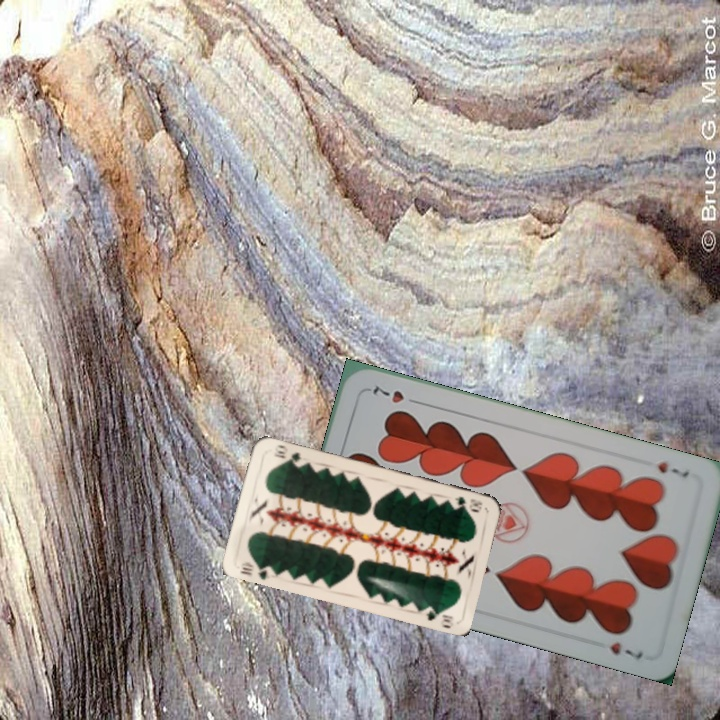G10: (236, 558, 276, 582), (450, 492, 485, 514)
H7: (653, 457, 691, 480)
